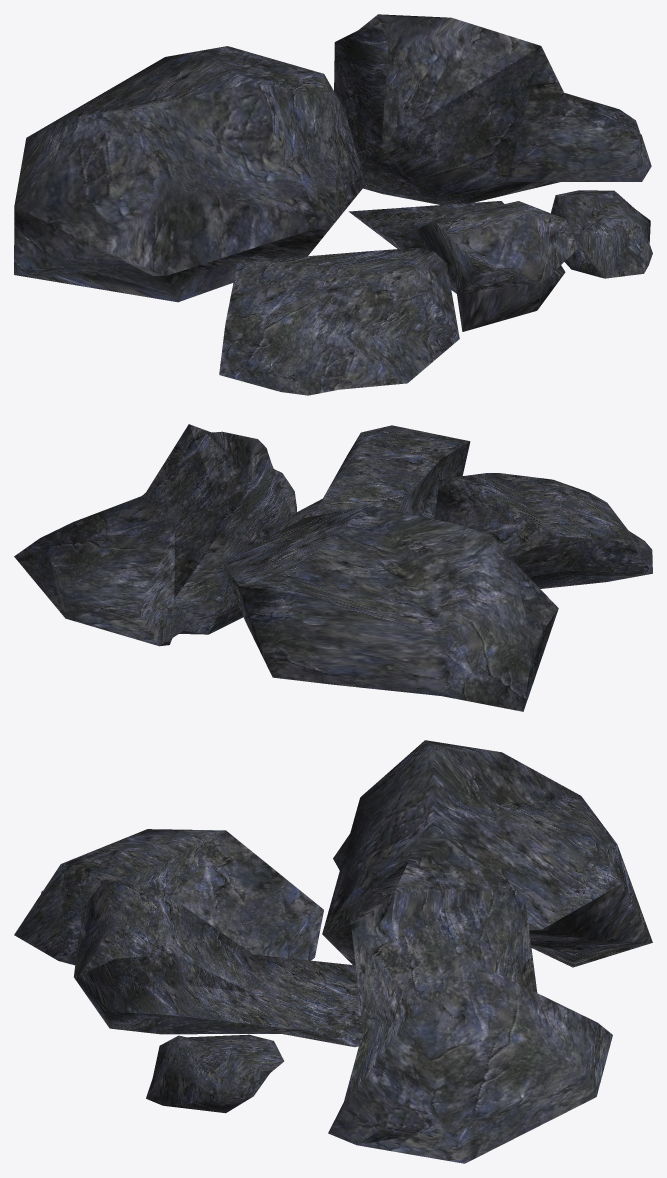
Rendered from pir_m_prp_vol_rockGroup_f.fbx.
3 renders of one model, top to bottom at view 1: azimuth 30°, elevation 25°; view 2: azimuth 150°, elevation 25°; view 3: azimuth 270°, elevation 25°, orthographic. The views are drawn at different scales.
Visible parts, largest first — view 1: rock_03, rock_05, rock_02, rock_01, rock_04; view 2: rock_03, rock_05, rock_02, rock_01, rock_04; view 3: rock_05, rock_03, rock_01, rock_02, rock_04.
Boxes of the visible parts, bbox=[...] form: rock_03: bbox=[14, 46, 365, 302]; rock_05: bbox=[334, 14, 651, 204]; rock_02: bbox=[219, 248, 459, 395]; rock_01: bbox=[348, 201, 578, 331]; rock_04: bbox=[551, 190, 652, 278]; rock_03: bbox=[221, 505, 558, 711]; rock_05: bbox=[14, 424, 294, 646]; rock_02: bbox=[434, 473, 652, 588]; rock_01: bbox=[292, 425, 470, 522]; rock_04: bbox=[274, 469, 296, 514]; rock_05: bbox=[328, 837, 612, 1163]; rock_03: bbox=[322, 740, 652, 967]; rock_01: bbox=[74, 879, 362, 1047]; rock_02: bbox=[14, 829, 323, 965]; rock_04: bbox=[146, 1034, 284, 1113].
Size of the model in its own units: 1319 by 434 by 1131.
1 material, 1 textured.
